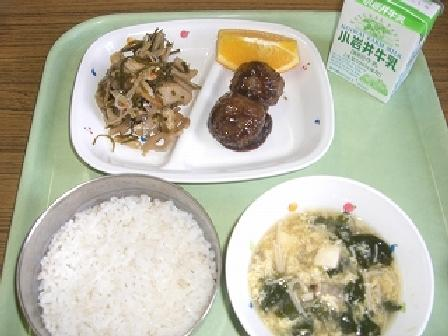Citrus: (216, 20, 306, 69)
Milk: (320, 0, 444, 91)
Rice: (16, 180, 220, 334)
Soups: (235, 185, 420, 335)
cutlet: (216, 60, 284, 161)
salad with sauce: (94, 31, 207, 146)
